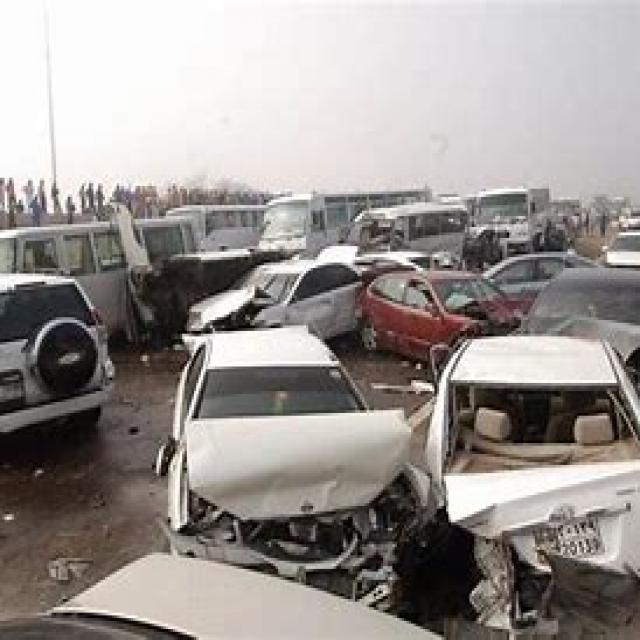Accident: (53, 146, 640, 640)
